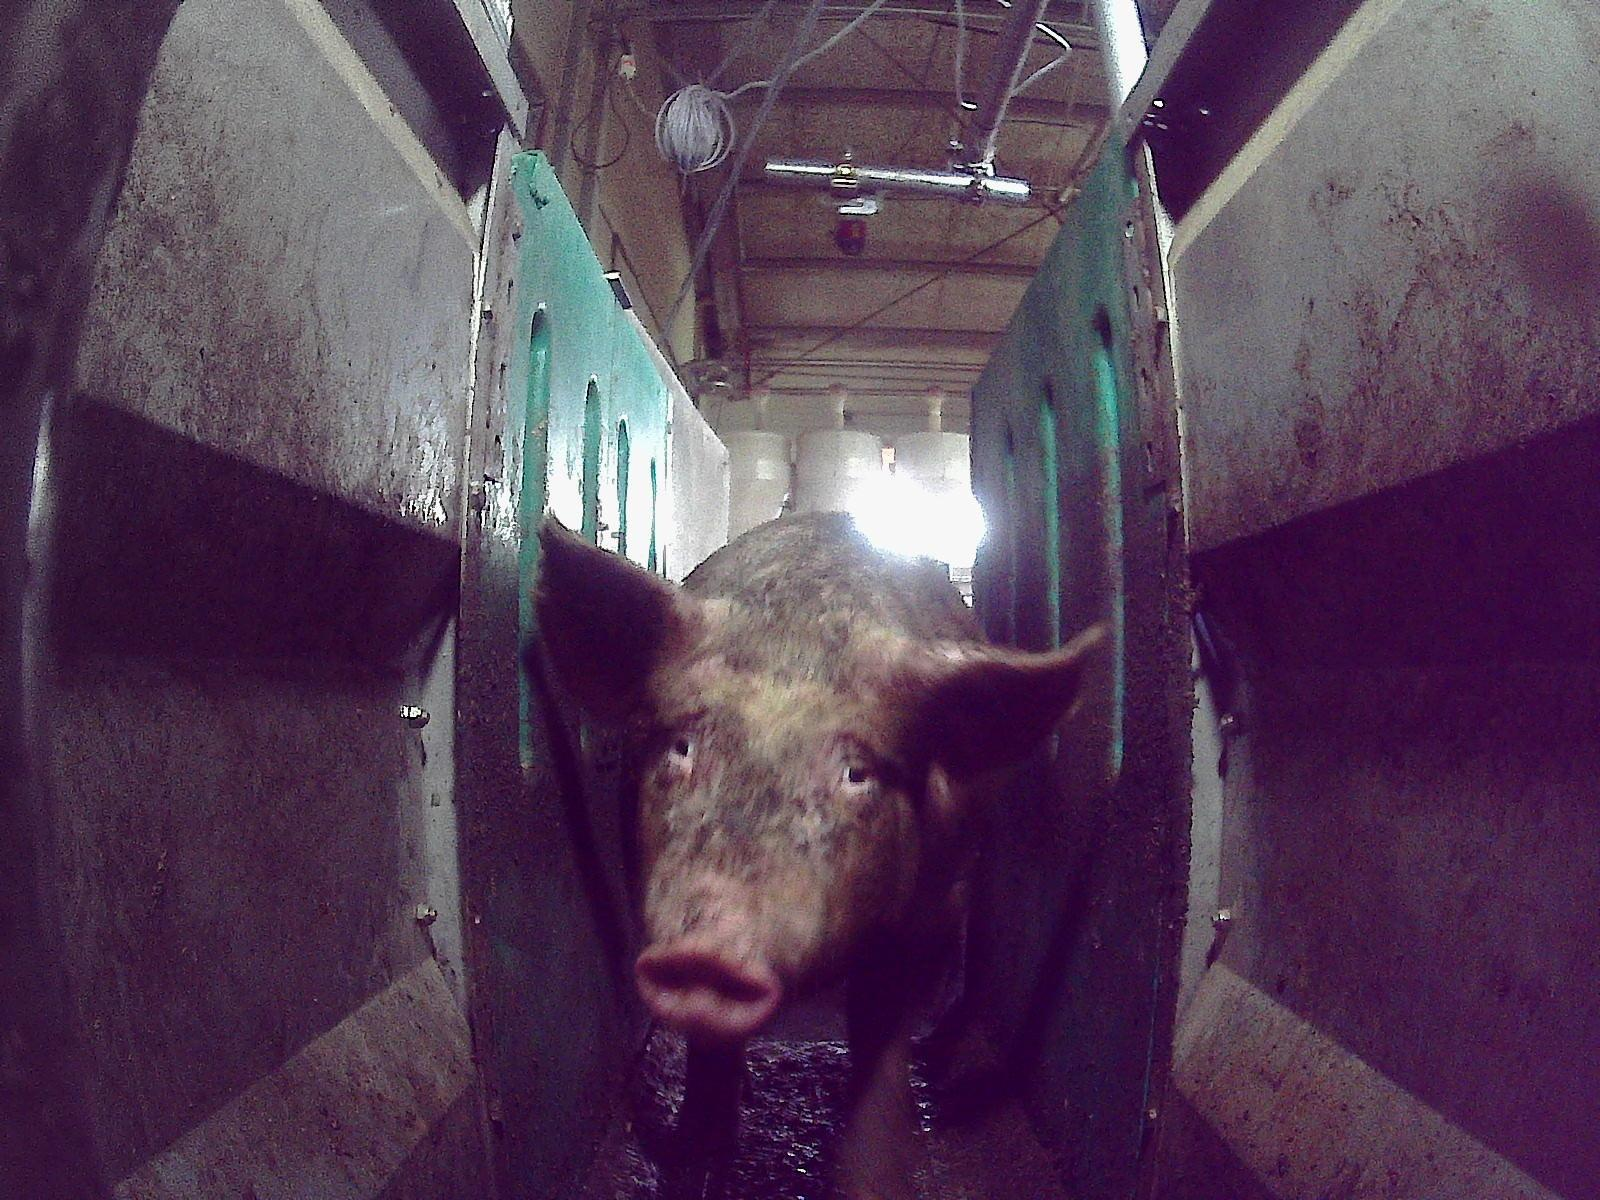Face: (629, 618, 921, 1033)
